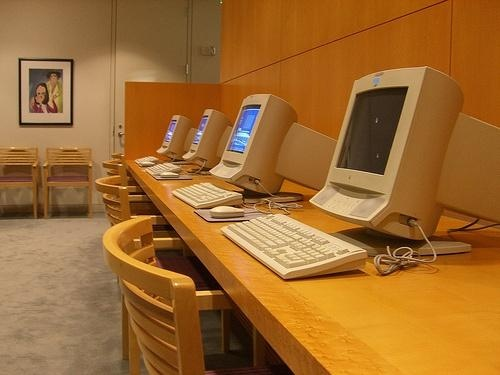chair: (104, 216, 288, 375), (94, 177, 234, 358), (44, 147, 94, 217), (1, 147, 39, 219)
tvmonitor: (309, 67, 500, 267), (210, 95, 340, 204), (182, 109, 235, 178), (157, 115, 200, 164)
